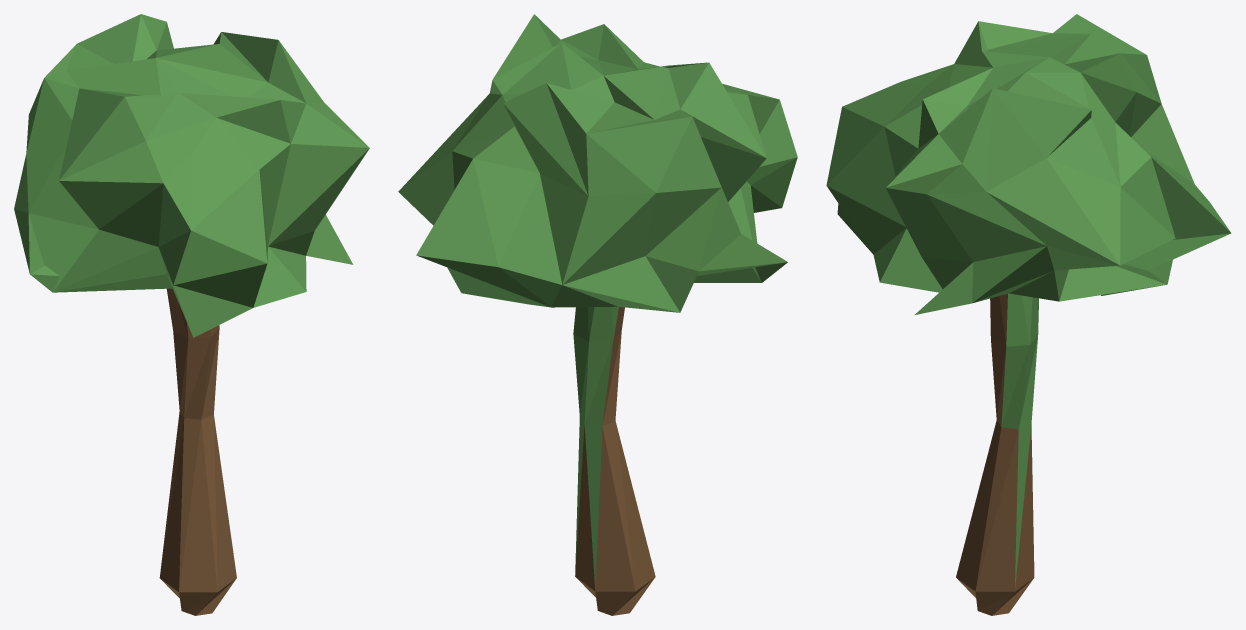
File: tree3d-083.glb
3 renders of one model, left to right at view 1: azimuth 30°, elevation 25°; view 2: azimuth 150°, elevation 25°; view 3: azimuth 270°, elevation 25°, orthographic. The views are drawn at different scales.
Visible parts, largest first — view 1: tree3d-083; view 2: tree3d-083; view 3: tree3d-083.
Boxes of the visible parts, <box> form: tree3d-083: <box>14,14,369,615</box>; tree3d-083: <box>398,14,797,615</box>; tree3d-083: <box>826,14,1231,615</box>.
Bounding box in the file's own units: 0.5977 × 1 × 0.6566.
